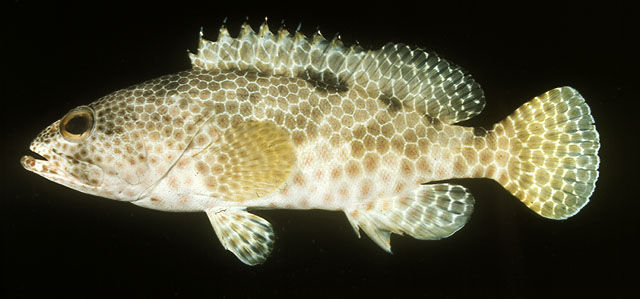fish: (20, 16, 602, 267)
